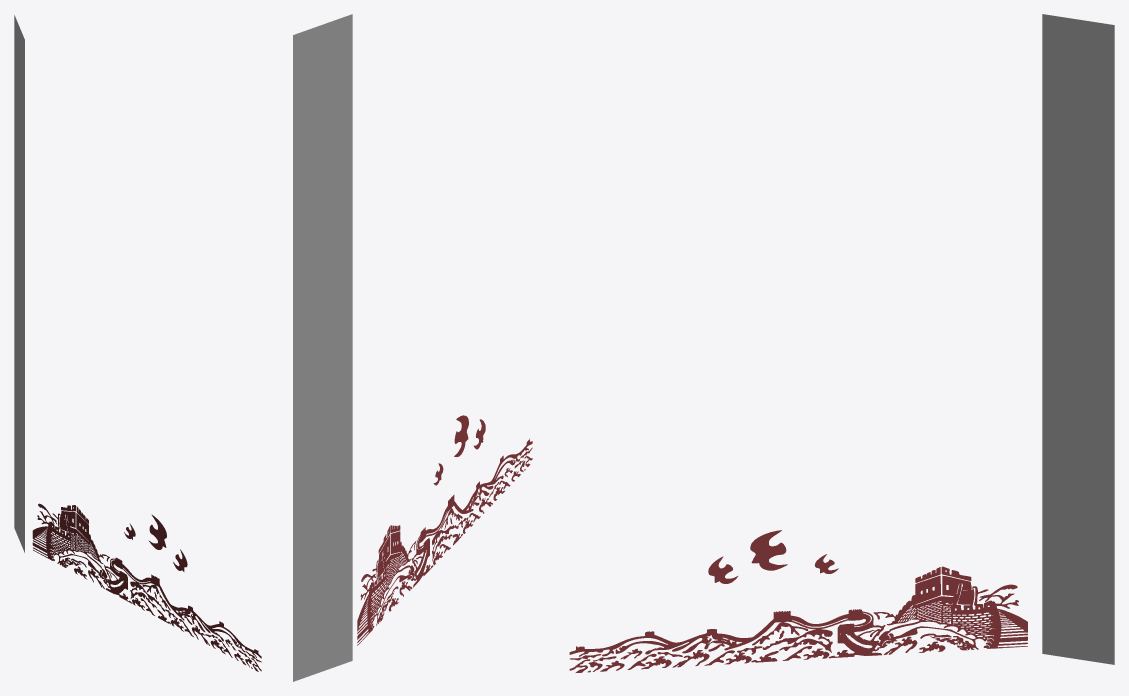
Rendered from 06-GAI.fbx.
3 views of the same model, side by side, from view 1: azimuth 30°, elevation 25°; view 2: azimuth 150°, elevation 25°; view 3: azimuth 270°, elevation 25° (orthographic). The views are drawn at different scales.
Visible parts, largest first — view 1: pasted__Plane169; view 2: pasted__Plane169; view 3: pasted__Plane169.
Boxes of the visible parts, left/top/right/bottom form: pasted__Plane169: left=14, top=15, right=261, bottom=671; pasted__Plane169: left=293, top=14, right=532, bottom=681; pasted__Plane169: left=569, top=14, right=1114, bottom=672.
Size of the model in its own units: 61.92 by 639 by 499.
